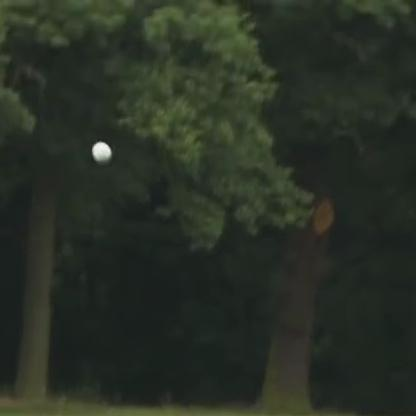golfball: (89, 135, 111, 160)
